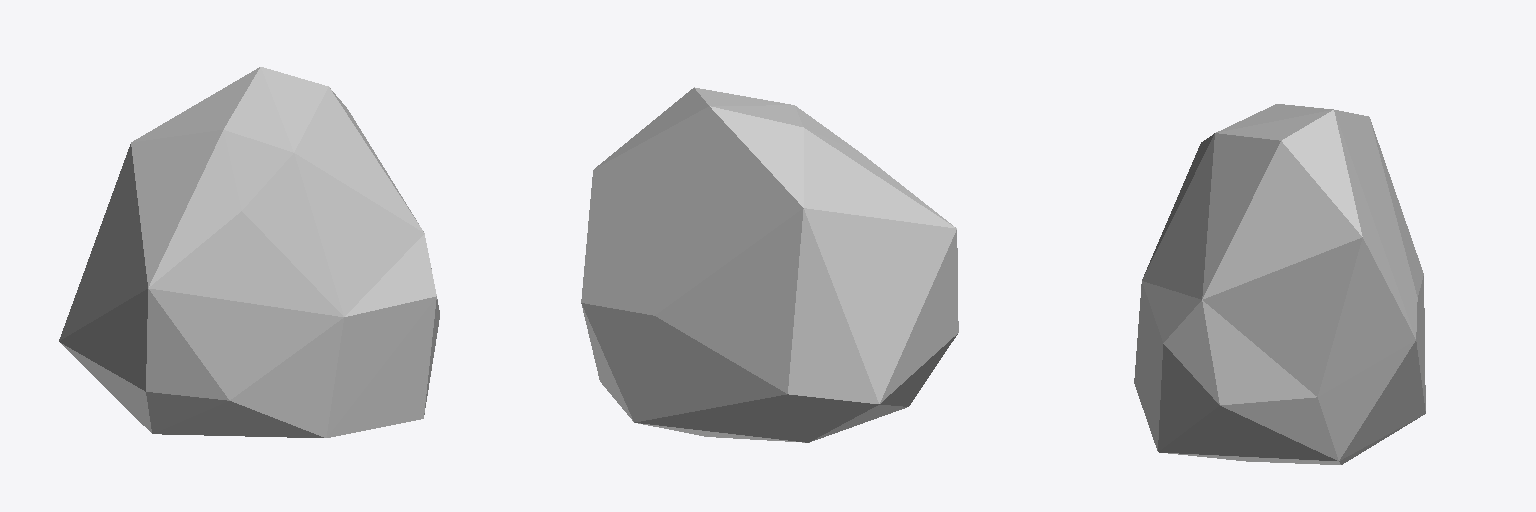
The model's file is plains_rock3.obj.
The picture shows the model from 3 angles: view 1: azimuth 30°, elevation 25°; view 2: azimuth 150°, elevation 25°; view 3: azimuth 270°, elevation 25°; orthographic projection.
Size of the model in its own units: 2.58 by 2.58 by 2.11.